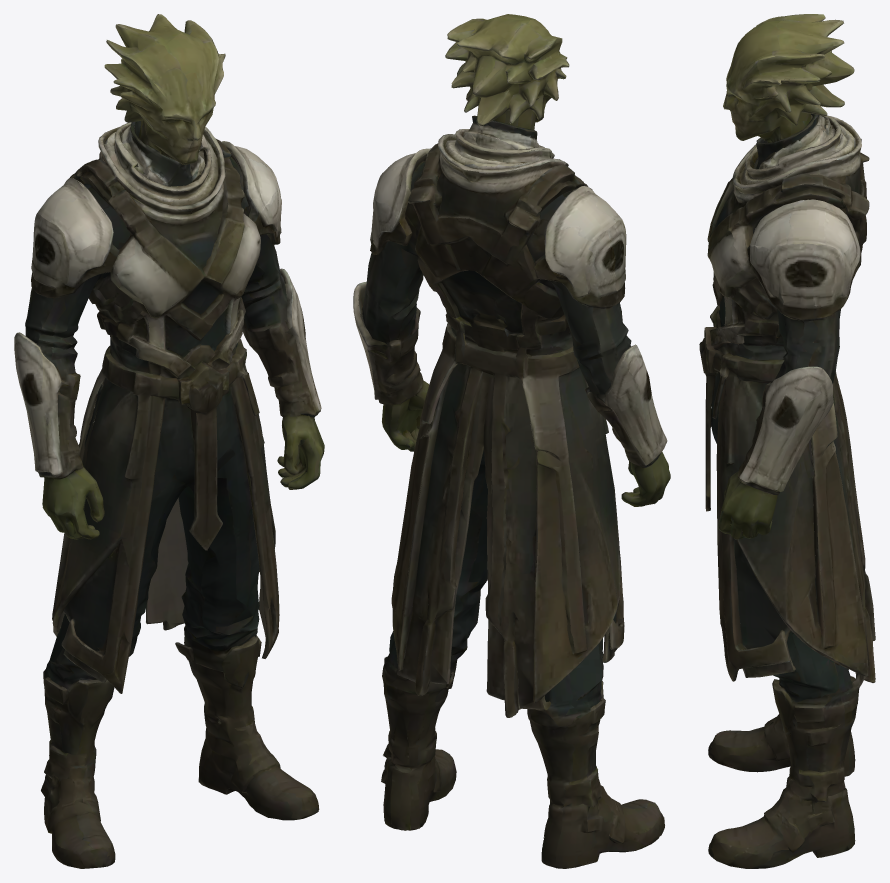
Rendered from figur.glb.
The picture shows the model from 3 angles, left to right: view 1: azimuth 30°, elevation 25°; view 2: azimuth 150°, elevation 25°; view 3: azimuth 270°, elevation 25°; orthographic projection. The views are drawn at different scales.
Parts seen in each view (by area): view 1: Mesh_0; view 2: Mesh_0; view 3: Mesh_0.
Part boxes in pixels (x1=…): Mesh_0: x1=14, y1=14, x2=324, y2=868; Mesh_0: x1=353, y1=14, x2=670, y2=868; Mesh_0: x1=699, y1=14, x2=875, y2=868.
Bounding box in the file's own units: 0.3701 × 0.9986 × 0.2038.
Materials: 1 (1 with a texture image).
